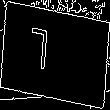L_S: (44, 28, 66, 82)
